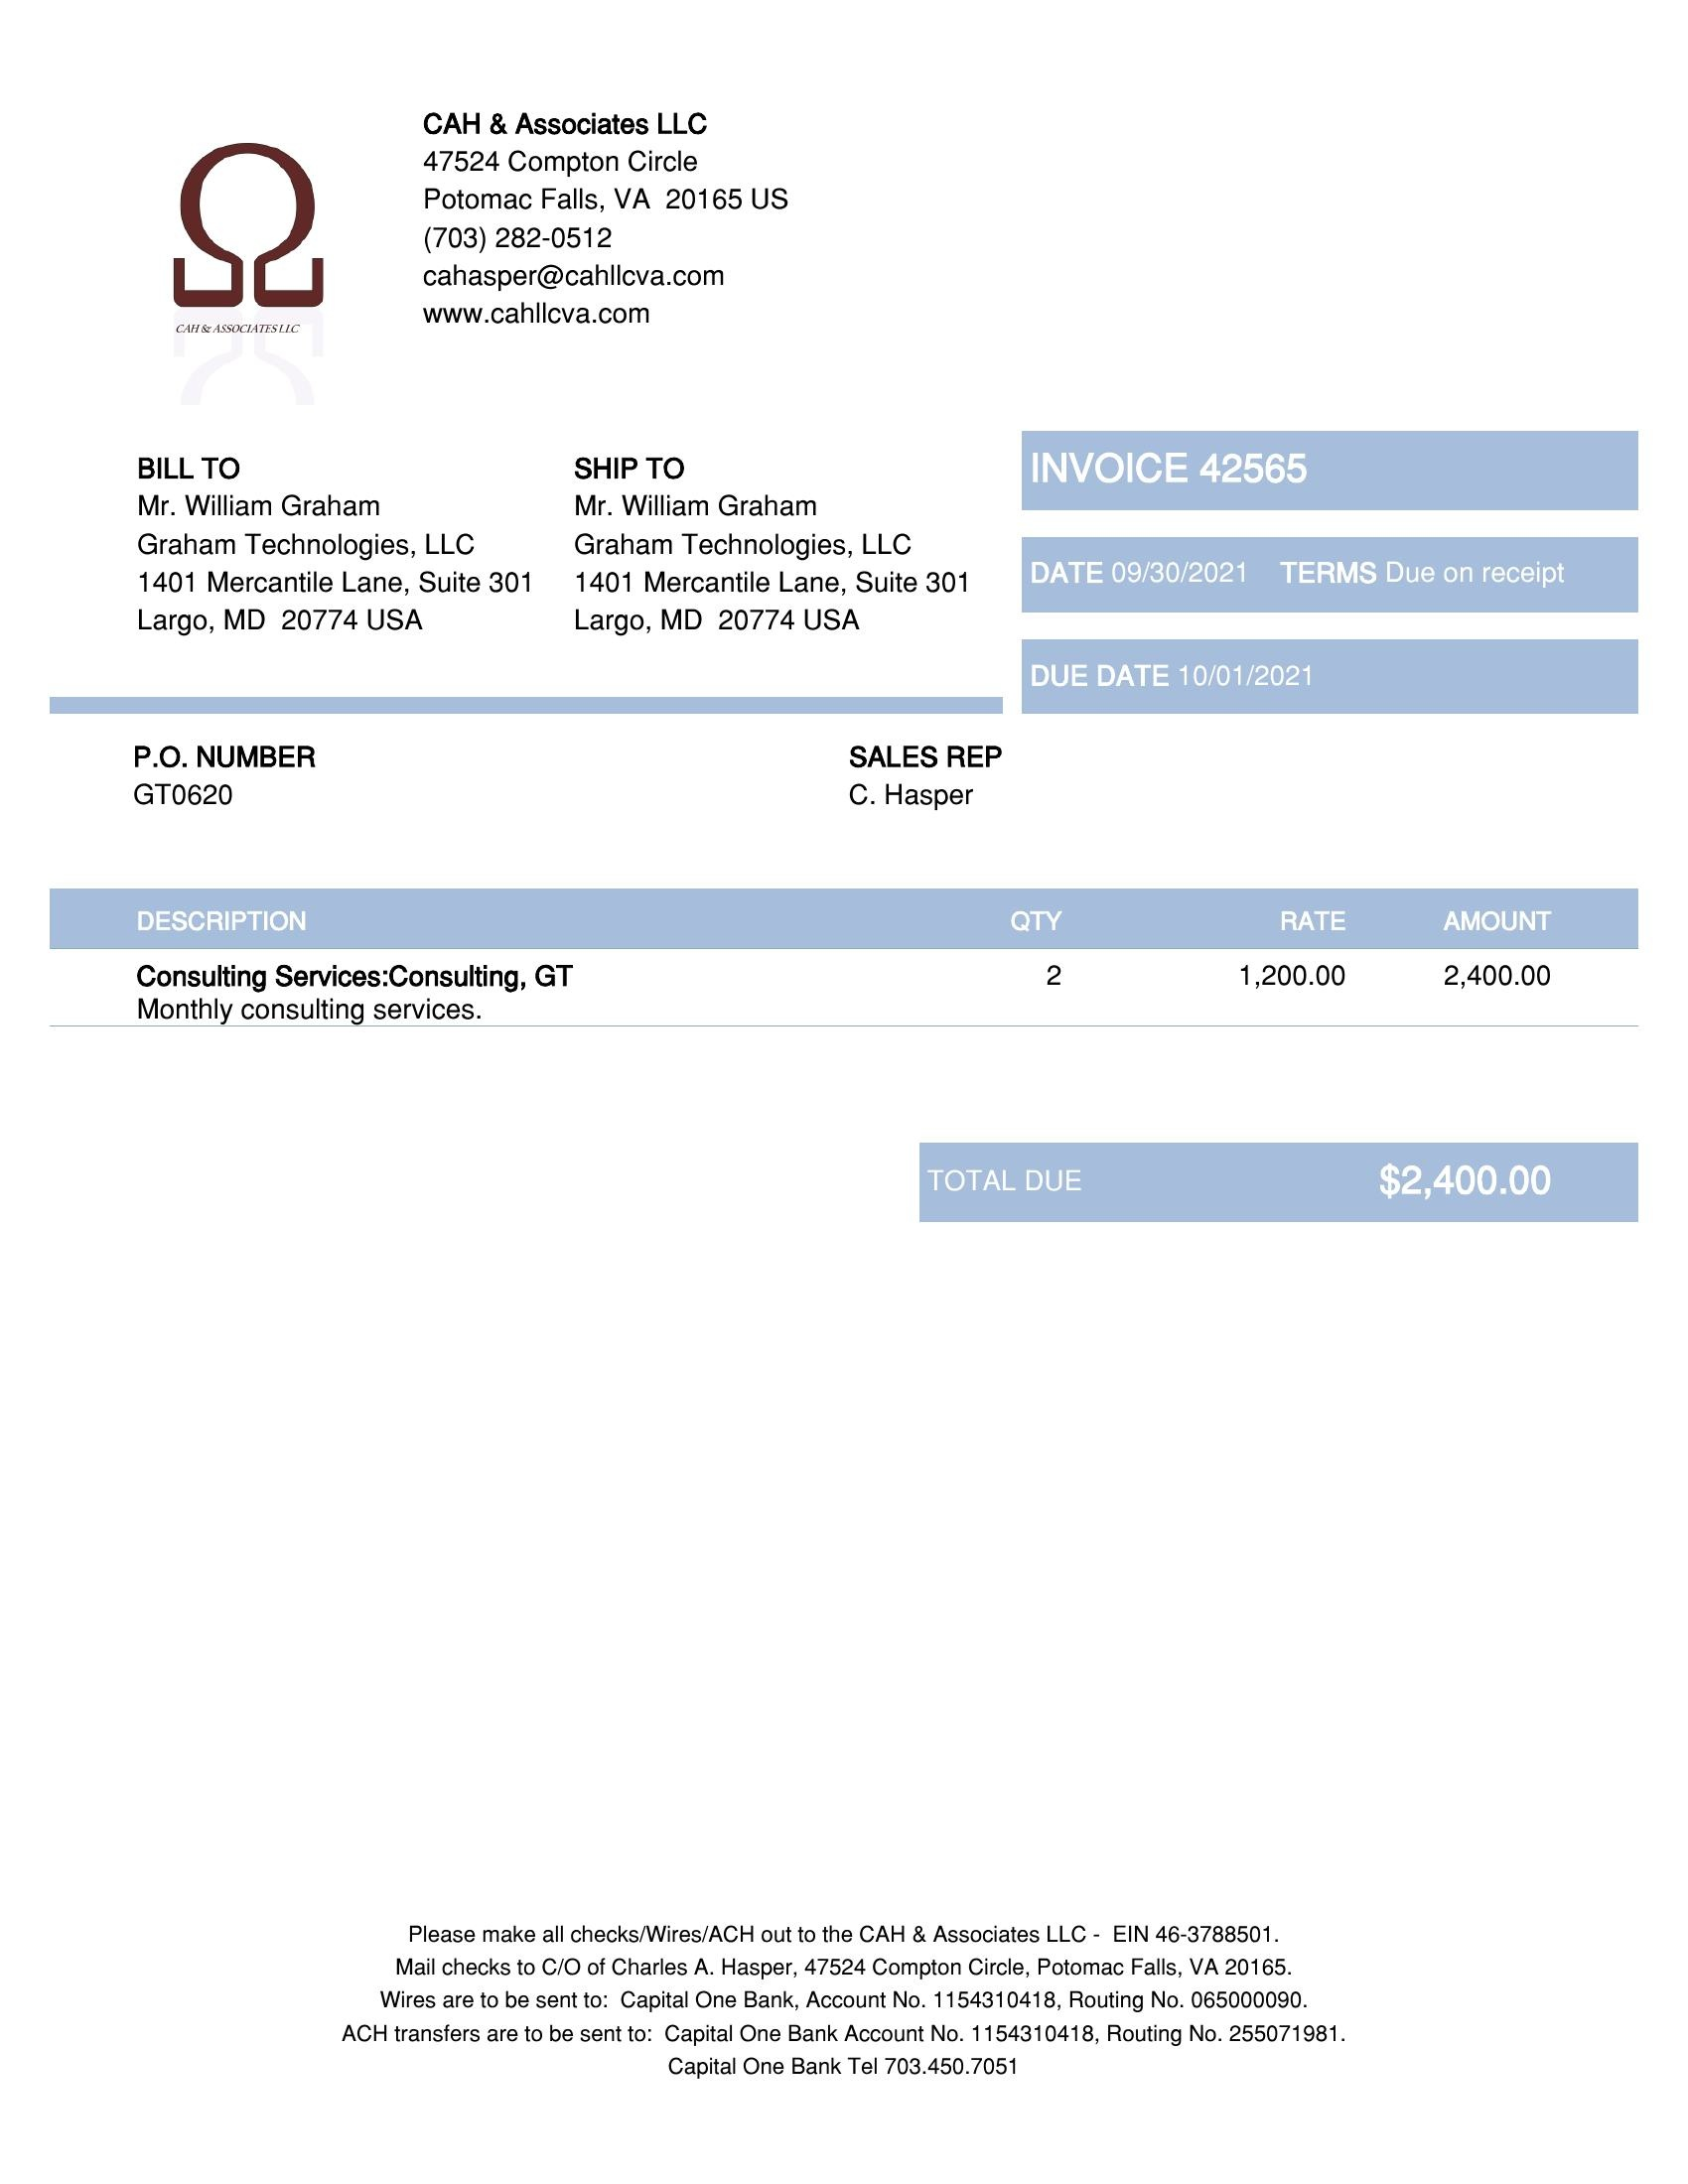table: (83, 881, 1635, 1048)
